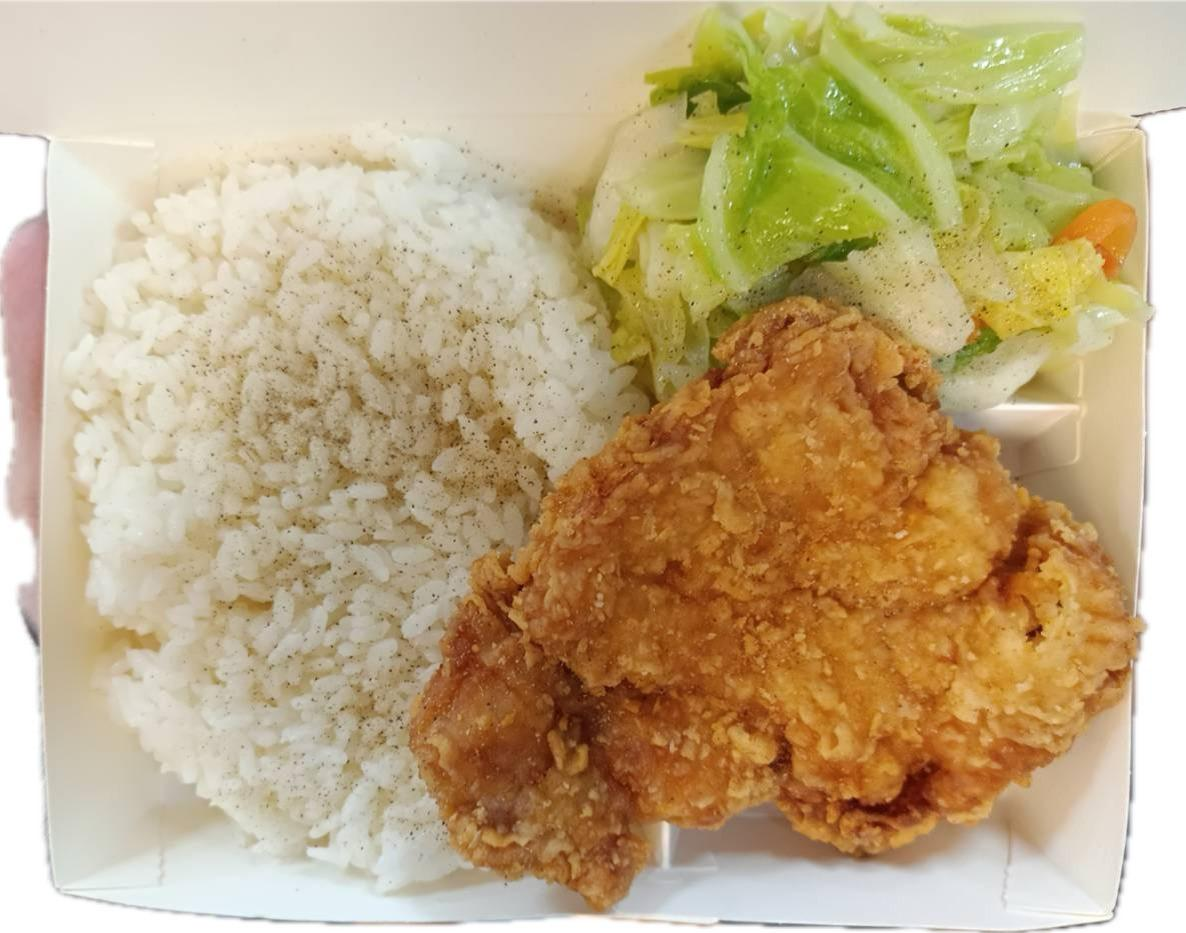big grilled chicken leg: (22, 100, 1173, 933)
big herbal chicken leg: (70, 144, 624, 905)
braised fish fillet: (566, 8, 1149, 410)
braised pork: (414, 292, 1142, 919)
